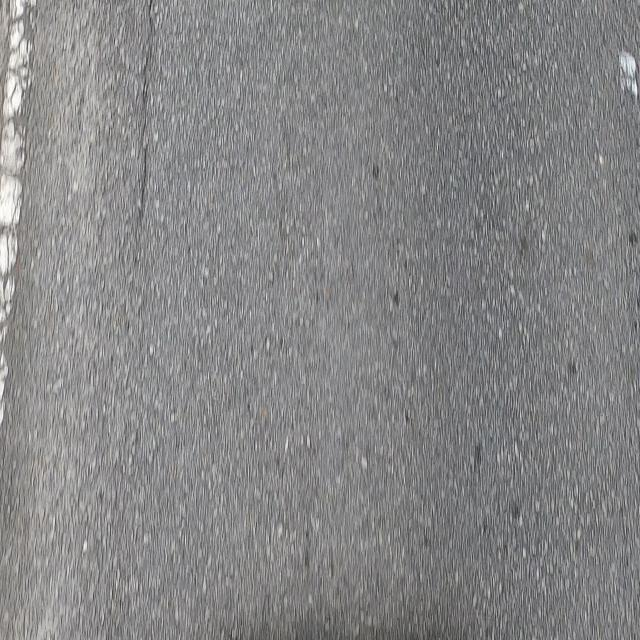Retak-Memanjang: (134, 0, 157, 233)
